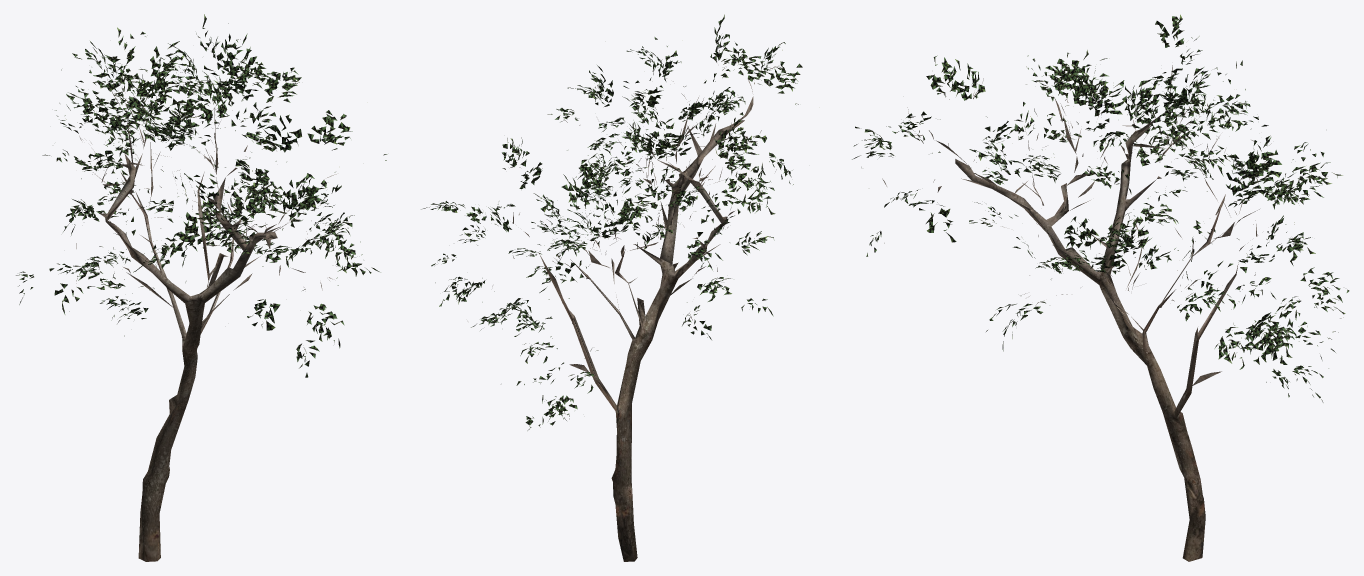
Rendered from tree.glb.
3 renders of one model, left to right at view 1: azimuth 30°, elevation 25°; view 2: azimuth 150°, elevation 25°; view 3: azimuth 270°, elevation 25°, orthographic. The views are drawn at different scales.
Parts seen in each view (by area): view 1: tree_small_02_LOD0; view 2: tree_small_02_LOD0; view 3: tree_small_02_LOD0.
Part boxes in pixels (x1,y1,x2,y2): tree_small_02_LOD0: (16,14,387,561); tree_small_02_LOD0: (421,14,802,561); tree_small_02_LOD0: (852,14,1349,561).
Size of the model in its own units: 2.87 by 4.54 by 4.01.
Materials: 3 (3 with a texture image).
